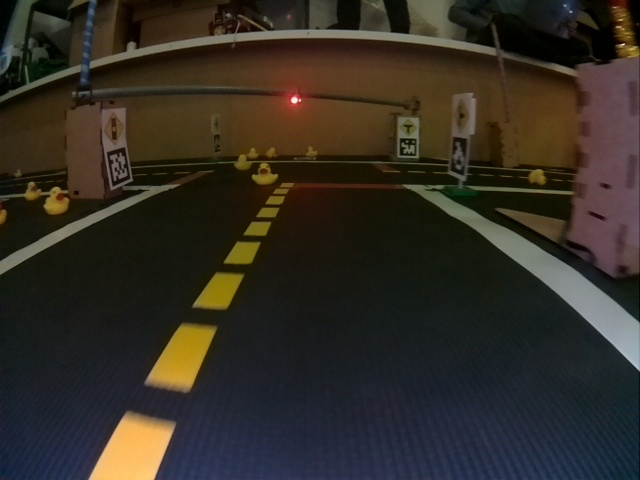Duckie: (43, 187, 68, 215), (252, 163, 277, 184), (24, 182, 41, 201), (528, 167, 545, 184), (234, 154, 251, 170), (306, 145, 317, 155), (267, 147, 276, 156), (249, 148, 257, 158)
Intersection sign: (452, 99, 471, 134), (398, 117, 418, 136)
QR code: (107, 151, 133, 188), (450, 137, 467, 179), (398, 138, 419, 158), (213, 134, 221, 154)
Signal sign: (101, 109, 126, 146)
Traffic light: (288, 94, 302, 105)
